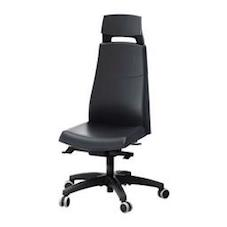chair: (46, 1, 184, 219)
